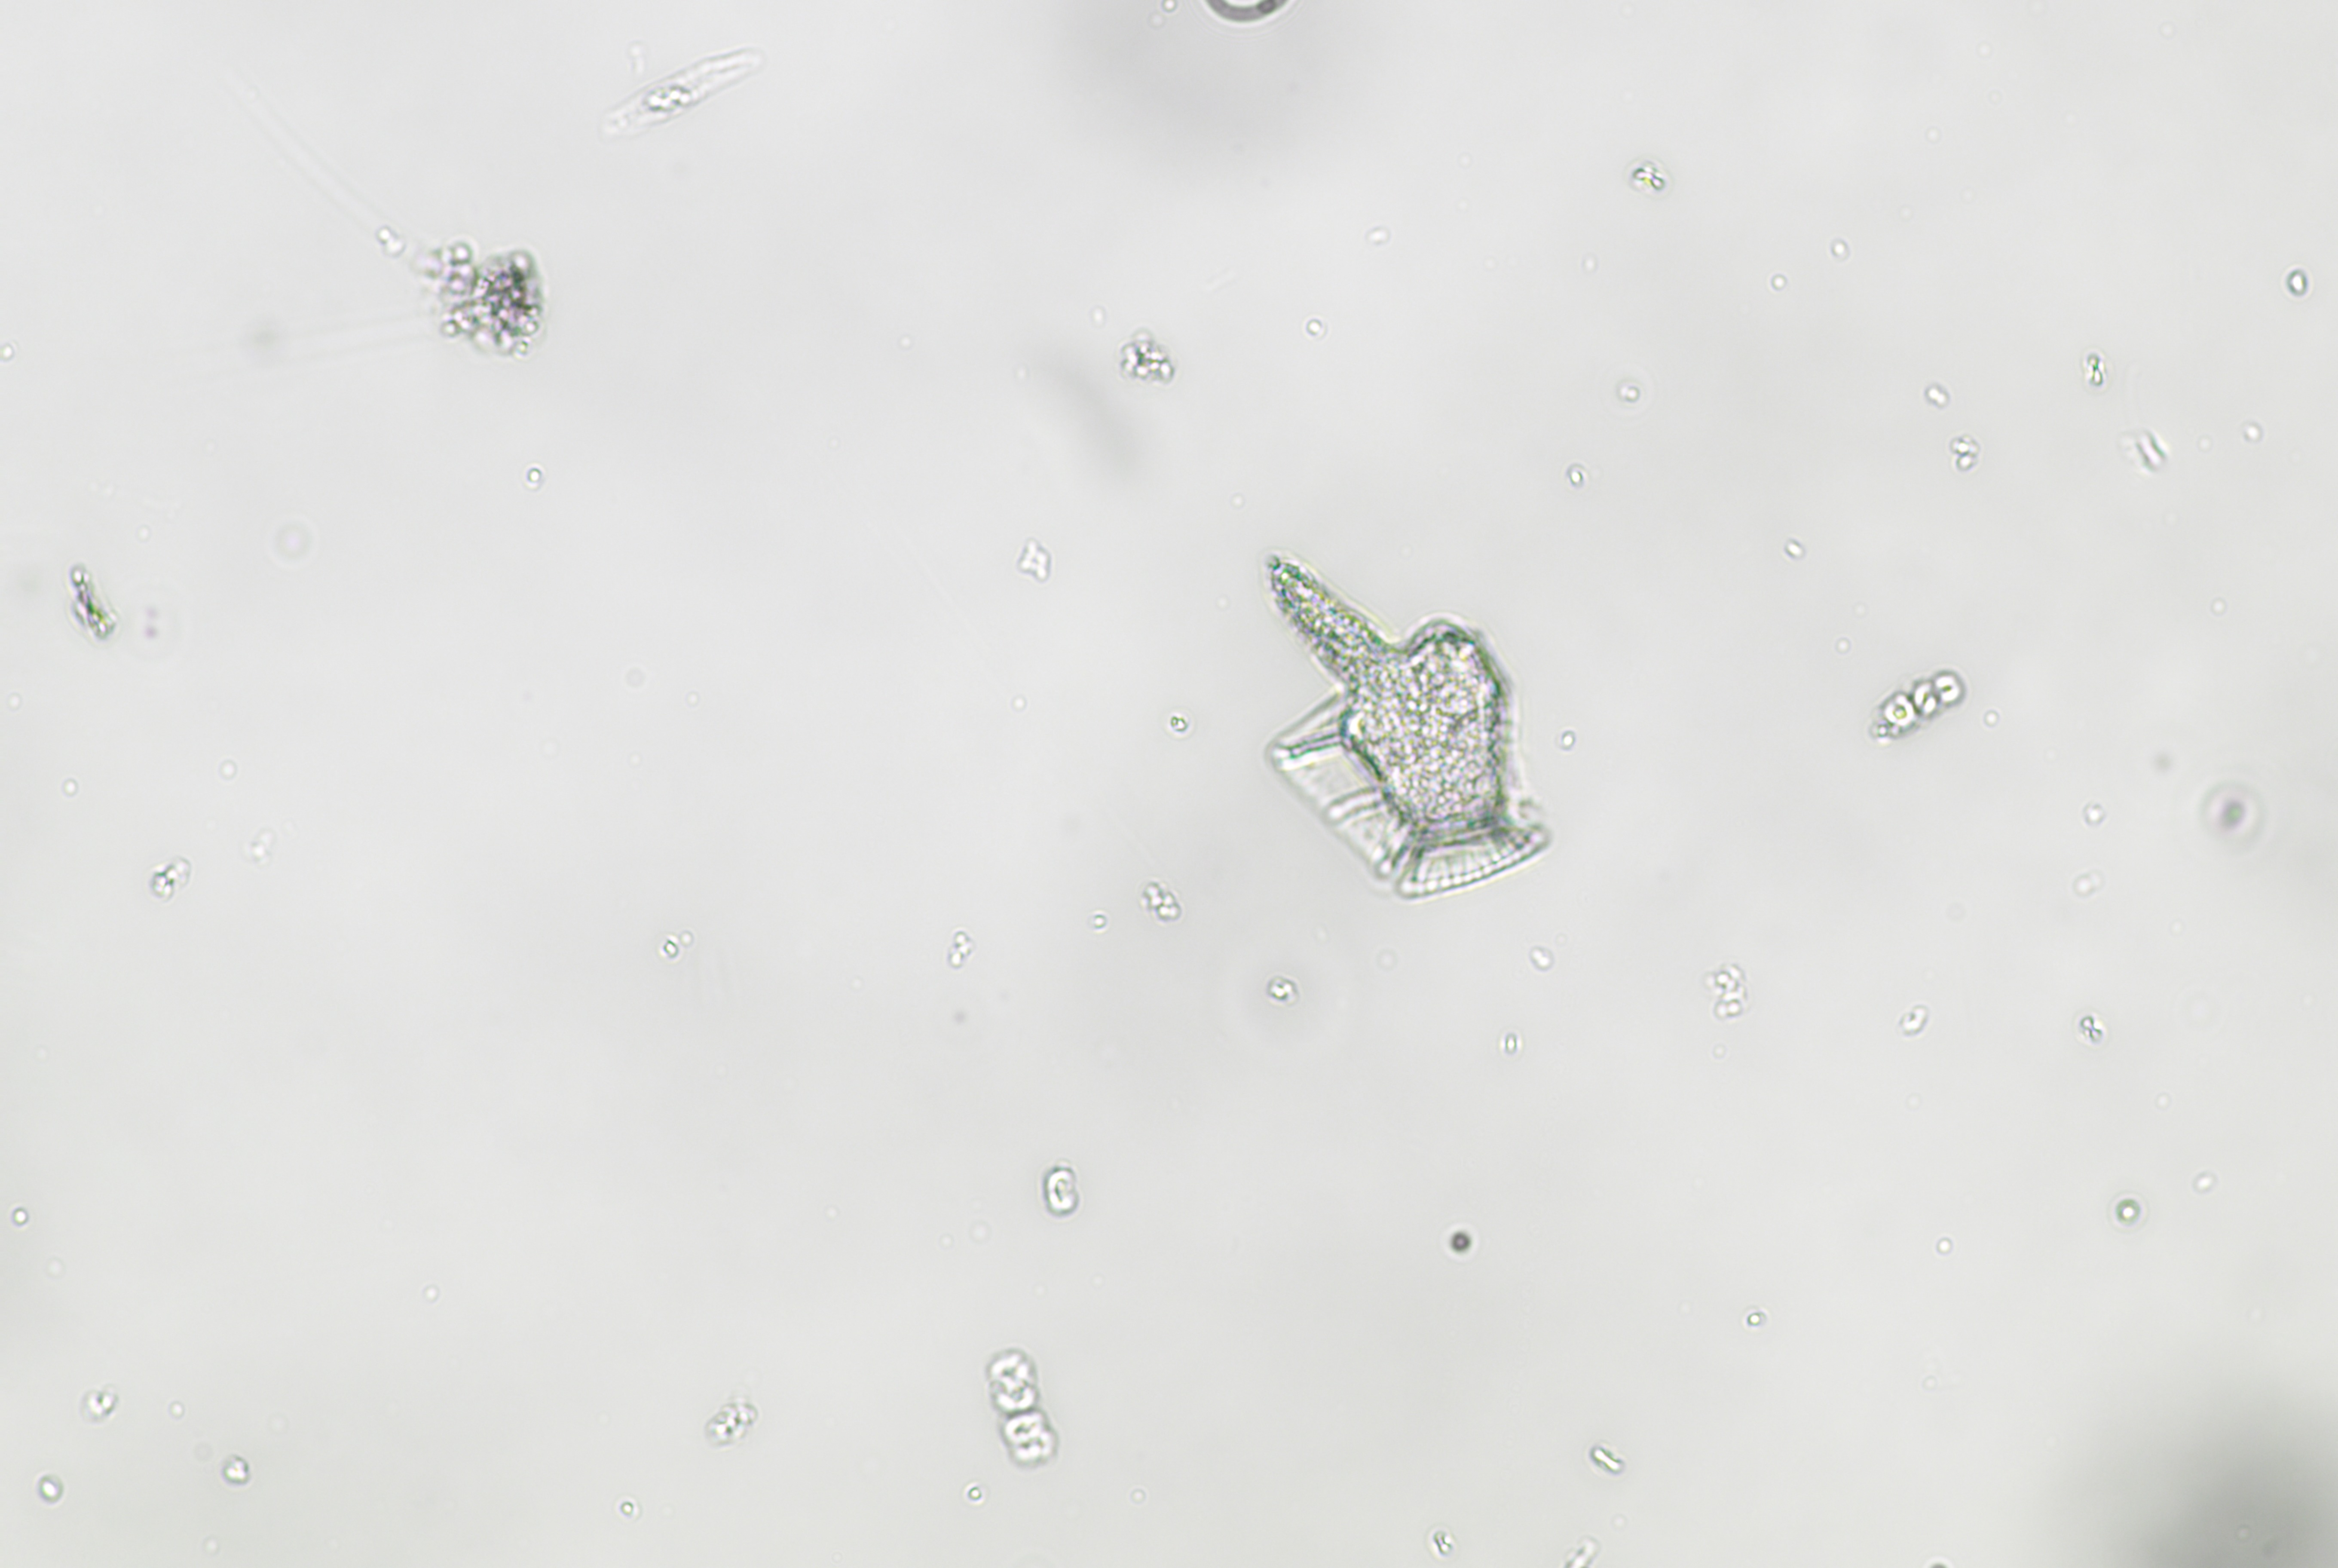dinophysis caudata: (1235, 534, 1565, 913)
